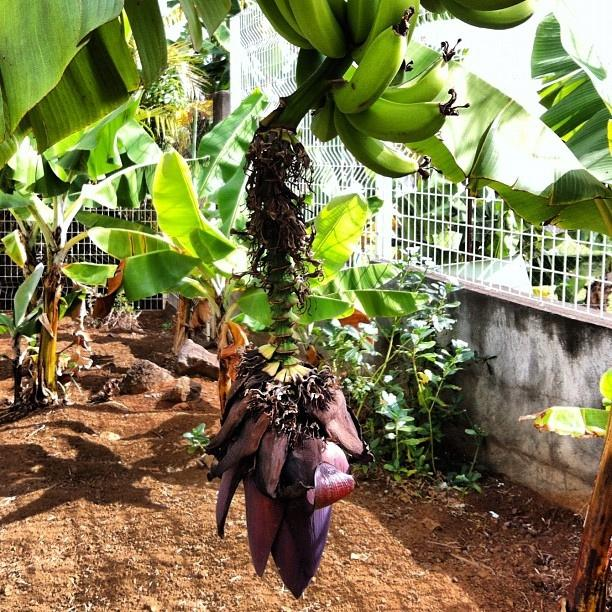banana: (334, 7, 415, 114), (333, 104, 444, 181), (344, 88, 470, 142), (380, 38, 462, 103), (350, 0, 420, 66), (288, 1, 347, 58), (256, 0, 317, 50), (443, 1, 541, 30), (296, 48, 326, 109), (346, 1, 380, 47), (311, 91, 338, 142), (275, 0, 308, 40), (454, 0, 525, 11), (420, 0, 448, 14)
